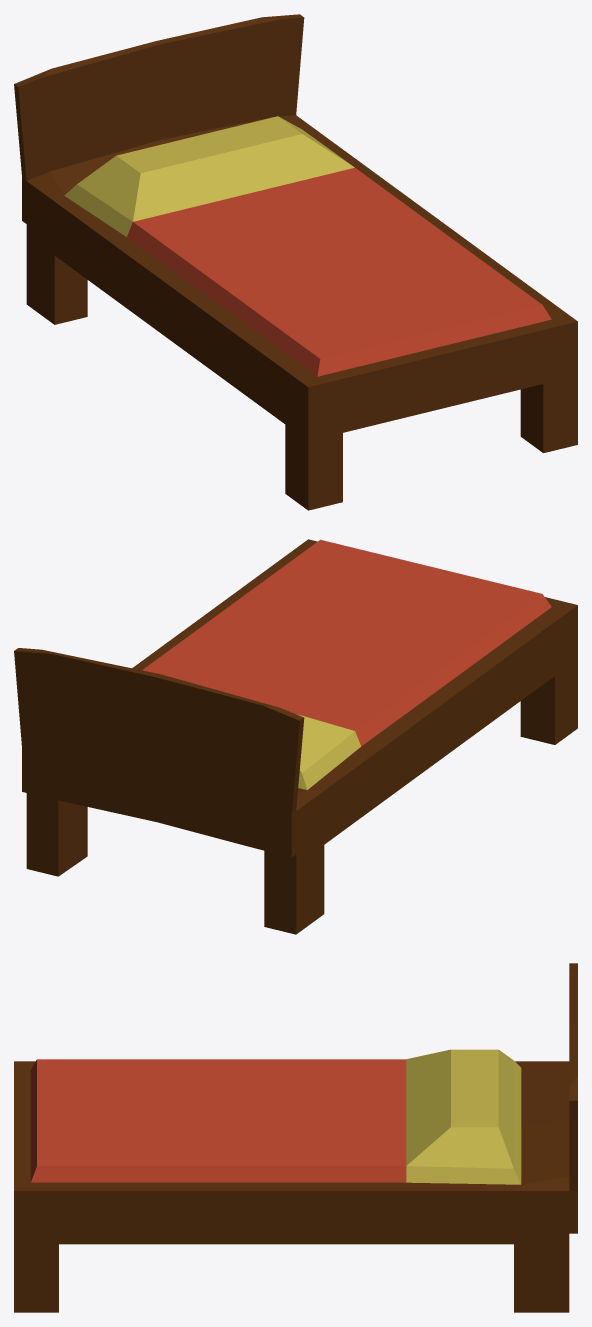
File: bed.fbx
3 views of the same model, one above another, from view 1: azimuth 30°, elevation 25°; view 2: azimuth 150°, elevation 25°; view 3: azimuth 270°, elevation 25° (orthographic).
Visible parts, largest first — view 1: Cube; view 2: Cube; view 3: Cube.
Part boxes in pixels (<box>): Cube: <box>14,14,577,510</box>; Cube: <box>14,539,577,934</box>; Cube: <box>14,963,577,1312</box>.
Bounding box in the file's own units: 217 × 165 × 375.
1 material, 1 textured.
